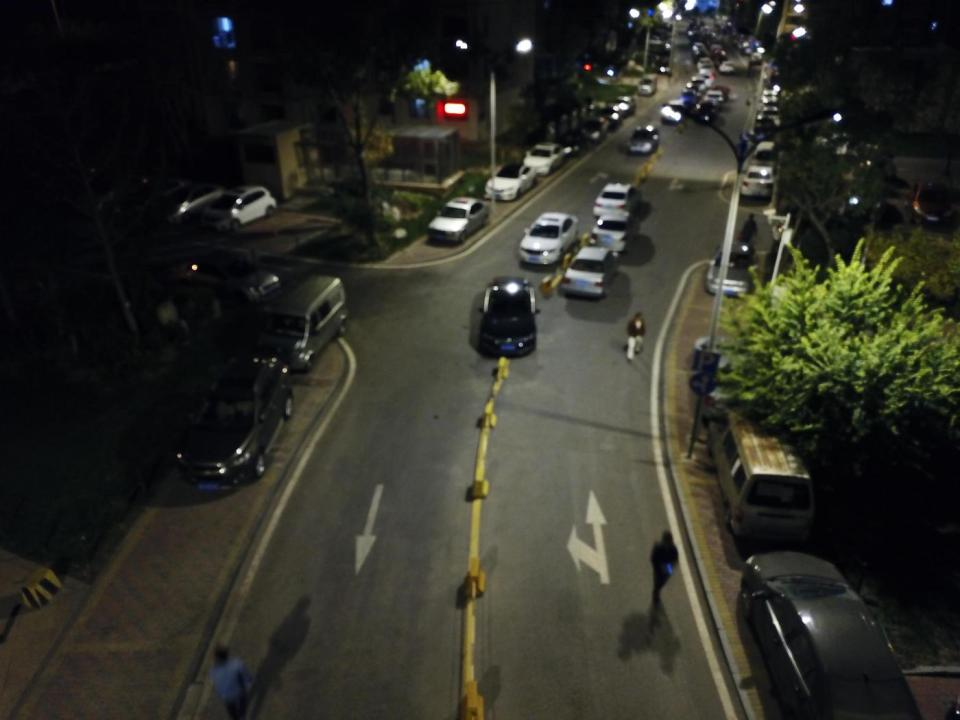car: (738, 549, 925, 720), (174, 351, 294, 492), (159, 249, 272, 306), (477, 277, 541, 358), (202, 184, 278, 235), (516, 211, 580, 269), (562, 243, 622, 299), (706, 234, 758, 298), (424, 194, 491, 243), (162, 176, 233, 221), (586, 206, 635, 255), (908, 182, 956, 231), (484, 160, 537, 202), (526, 138, 568, 178), (594, 183, 639, 215), (738, 162, 776, 197), (626, 122, 662, 156), (561, 128, 595, 157), (752, 139, 781, 172), (582, 117, 609, 145), (663, 97, 689, 125), (597, 104, 626, 128), (753, 115, 779, 141), (612, 94, 637, 119), (695, 100, 717, 124), (677, 86, 699, 108), (703, 88, 725, 109), (760, 85, 782, 106), (687, 75, 708, 96), (763, 105, 782, 128), (637, 50, 665, 65), (696, 62, 715, 81), (697, 70, 716, 88), (656, 57, 670, 77), (719, 60, 736, 76), (697, 57, 714, 72), (713, 53, 730, 66), (691, 41, 706, 55), (694, 48, 708, 62), (711, 44, 725, 58)
van: (701, 402, 815, 544), (260, 274, 348, 373), (638, 72, 660, 97)
